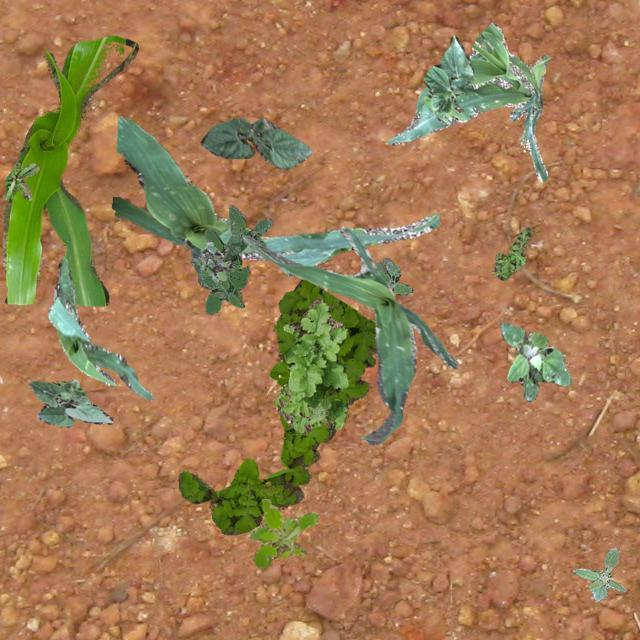crop: (110, 114, 438, 274), (243, 226, 457, 444), (1, 34, 138, 304), (384, 22, 550, 182), (48, 256, 152, 399), (200, 118, 312, 168), (422, 34, 472, 124), (28, 378, 112, 426)
weed: (178, 278, 374, 534), (274, 298, 346, 432), (198, 204, 272, 314), (500, 322, 570, 399), (246, 498, 318, 566), (572, 548, 624, 600), (492, 227, 532, 280), (188, 240, 234, 280), (375, 256, 413, 294), (3, 162, 38, 200)
